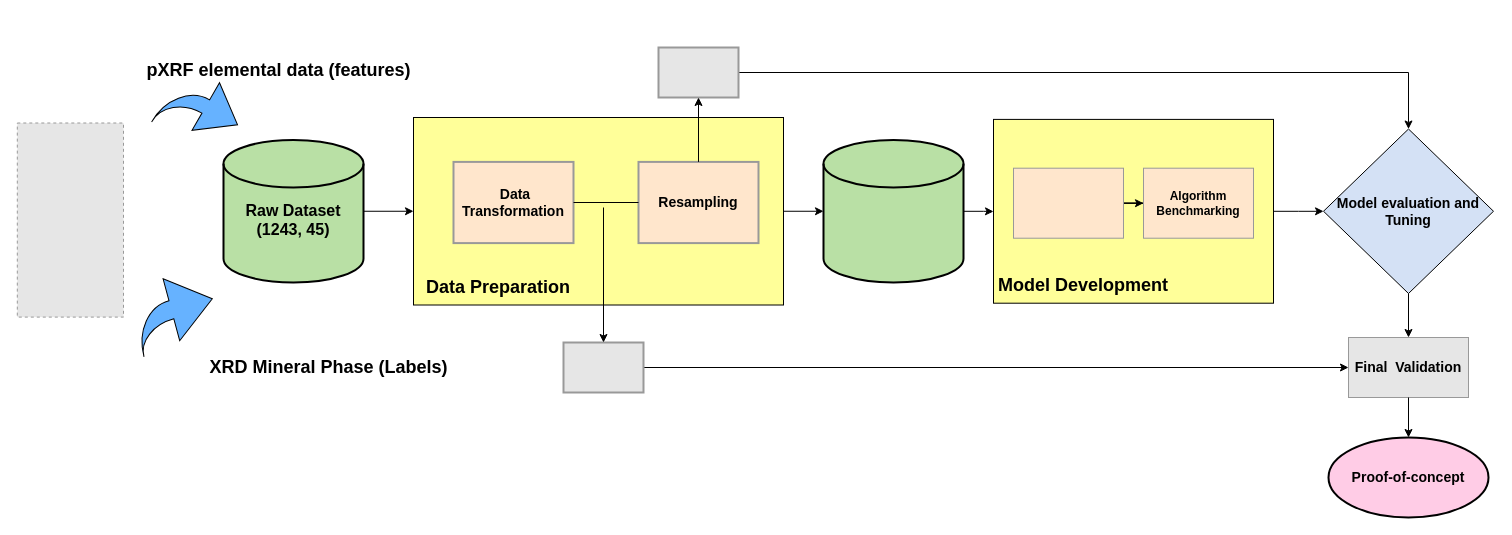
This 1512x535 diagram has some shape labels left out. Grey dashed boxes stand in for pictures. The shapes that lost their labels are listed below. From the top down, each one's centre as x and y in pixels, then its label:
At point 698,72: "VS2".
At point 893,210: "Pre-processed Dataset (4082, 45)".
At point 1068,202: "Stratified Cross-Validation k=10".
At point 603,367: "VS1".
